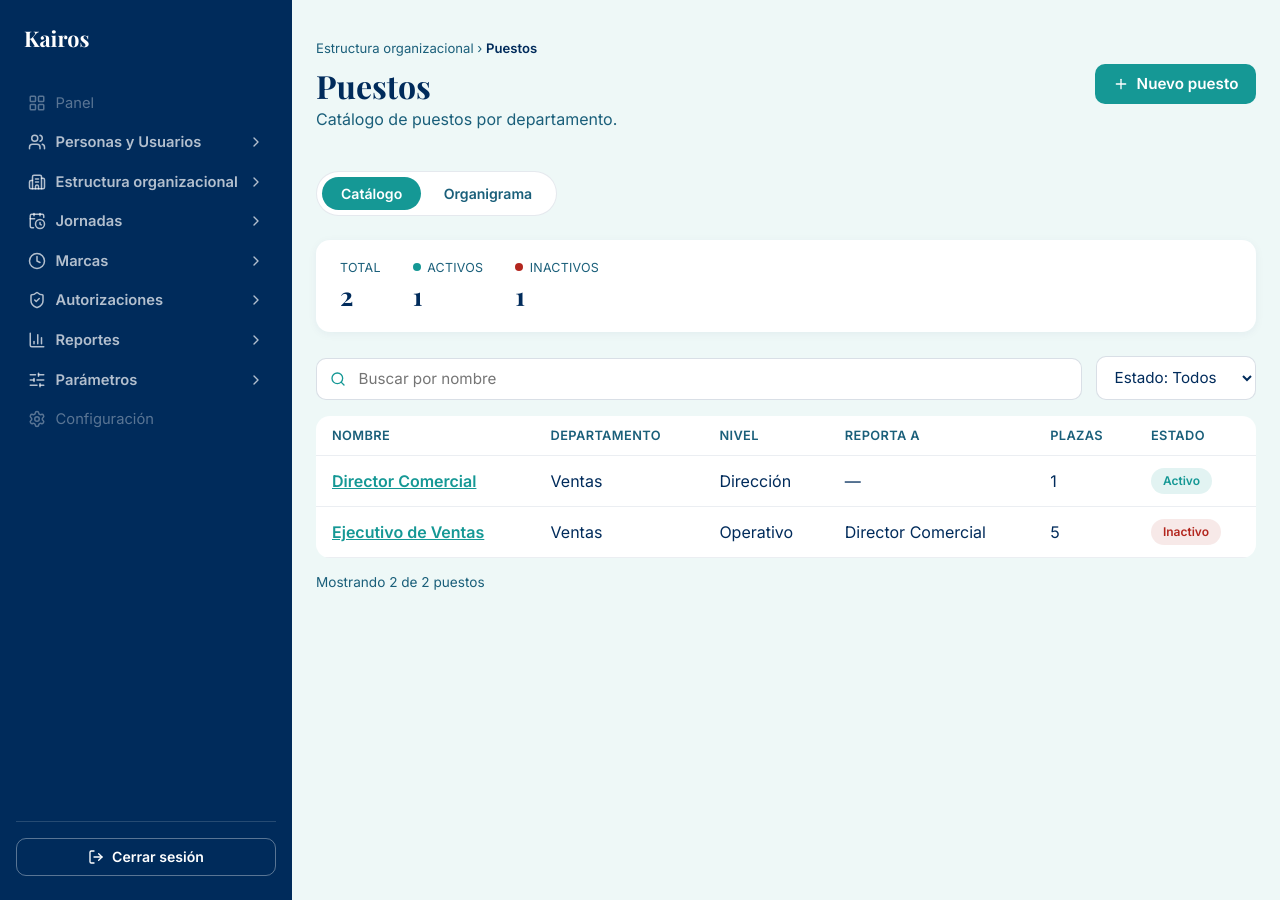
it: DirectorioPuestosPage › organigrama (híbrido: árbol grande con toggle + click filtra el catálogo) › click en un nodo vuelve al catálogo, filtrado a ese puesto y su rama, con chip removible
This screenshot has width=1280, height=900.
expect the link "Director Comercial" is shown: met, box [332,471,476,491]
Click the tab "Organigrama": (488, 193) [425,177,551,210]
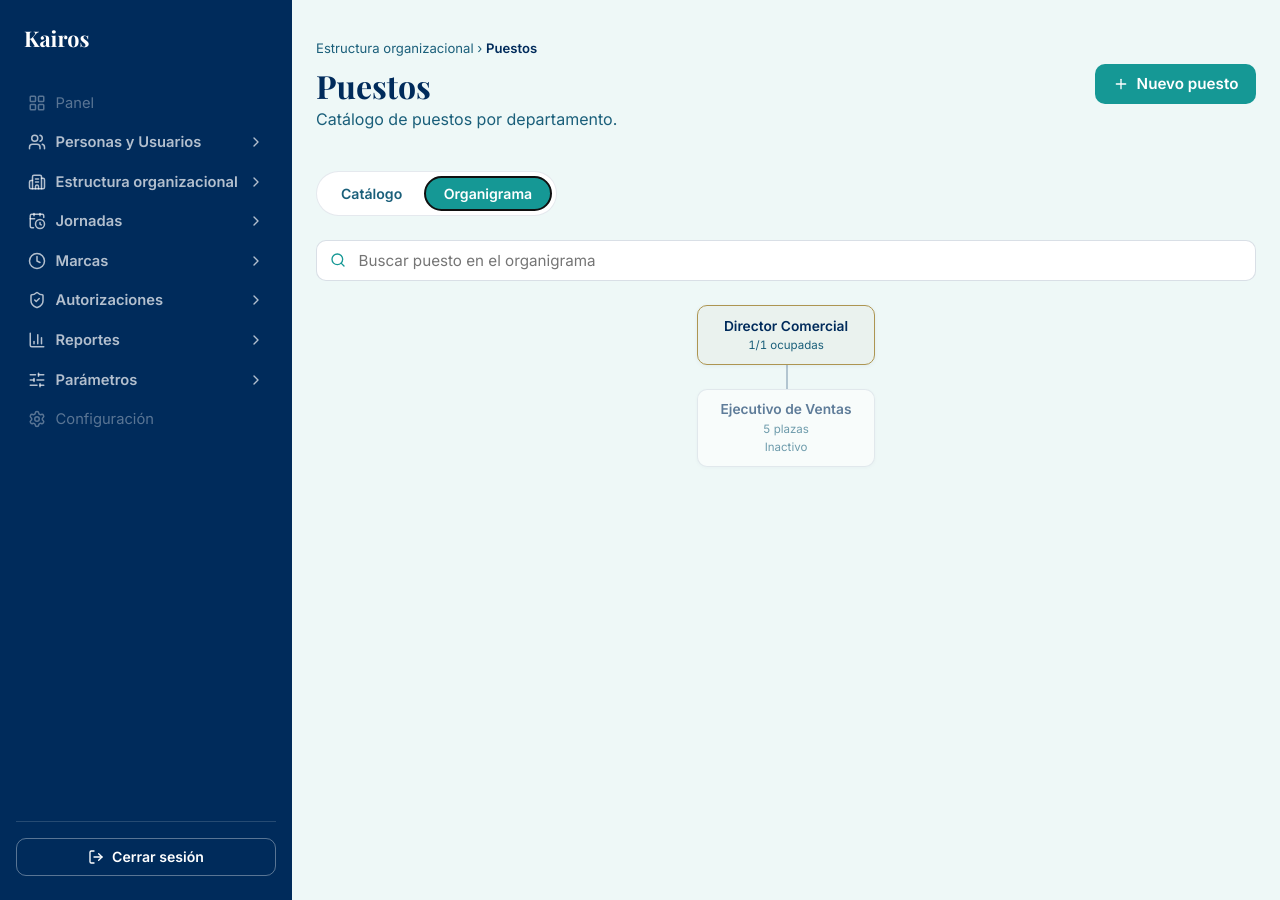
Click the text "Director Comercial": (786, 326) [724,318,848,334]
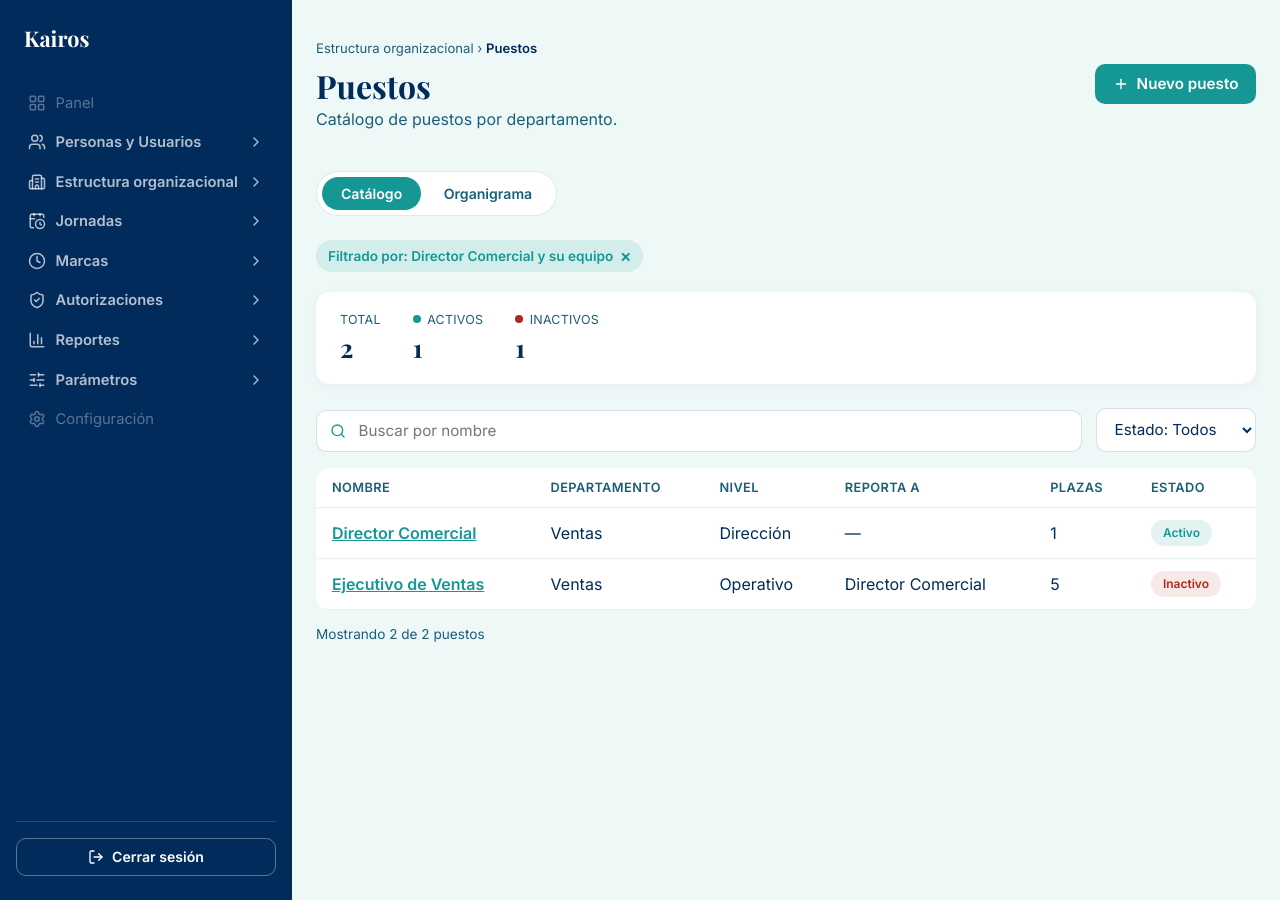
expect the link "Ejecutivo de Ventas" is shown: met, box [332,574,484,594]
expect the text "Filtrado por: Director Comercial y su equipo ×" is shown: met, box [316,240,644,272]
Click the button named "quitar filtro": (626, 256) [620,247,631,264]
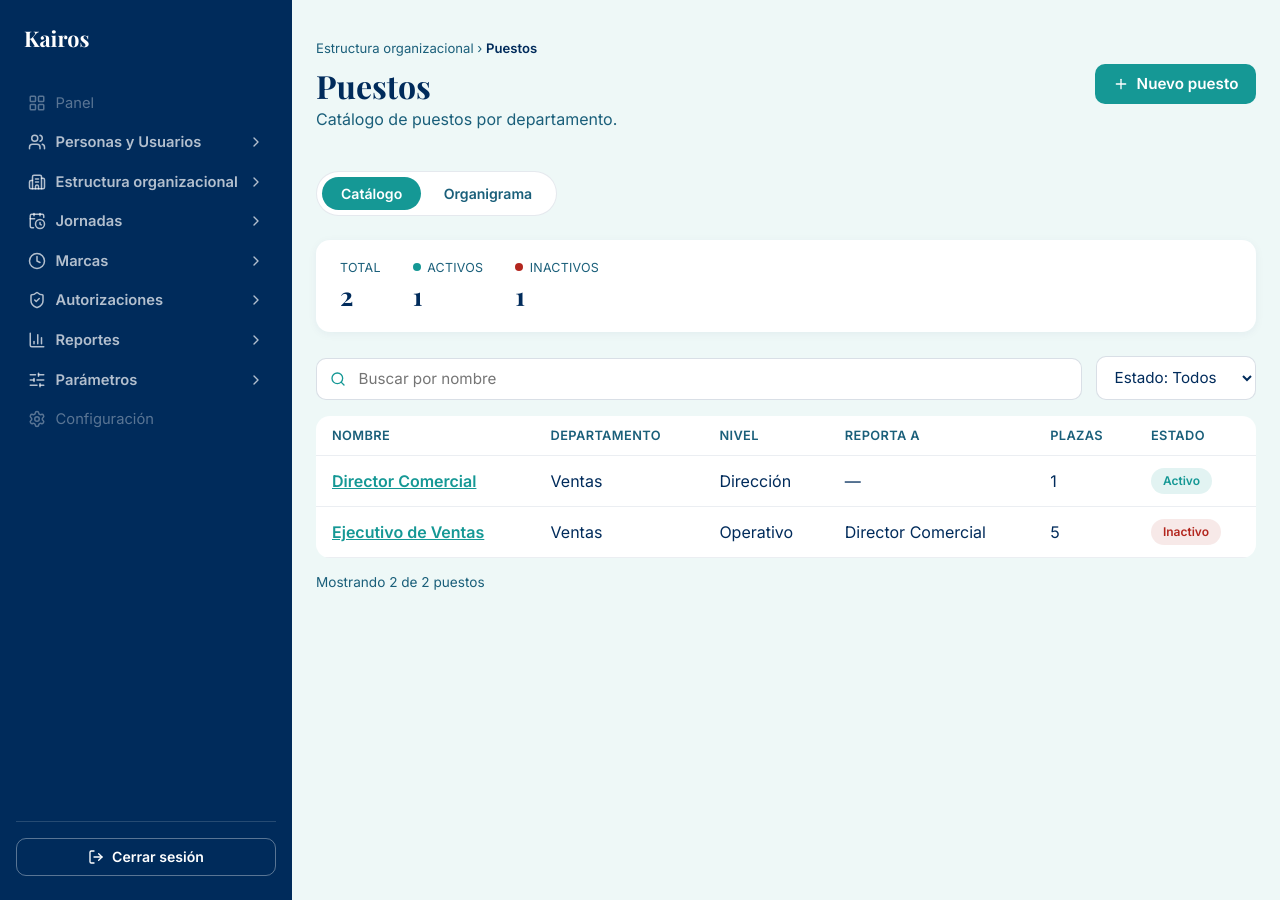
expect the text "Filtrado por:" is gone: met
